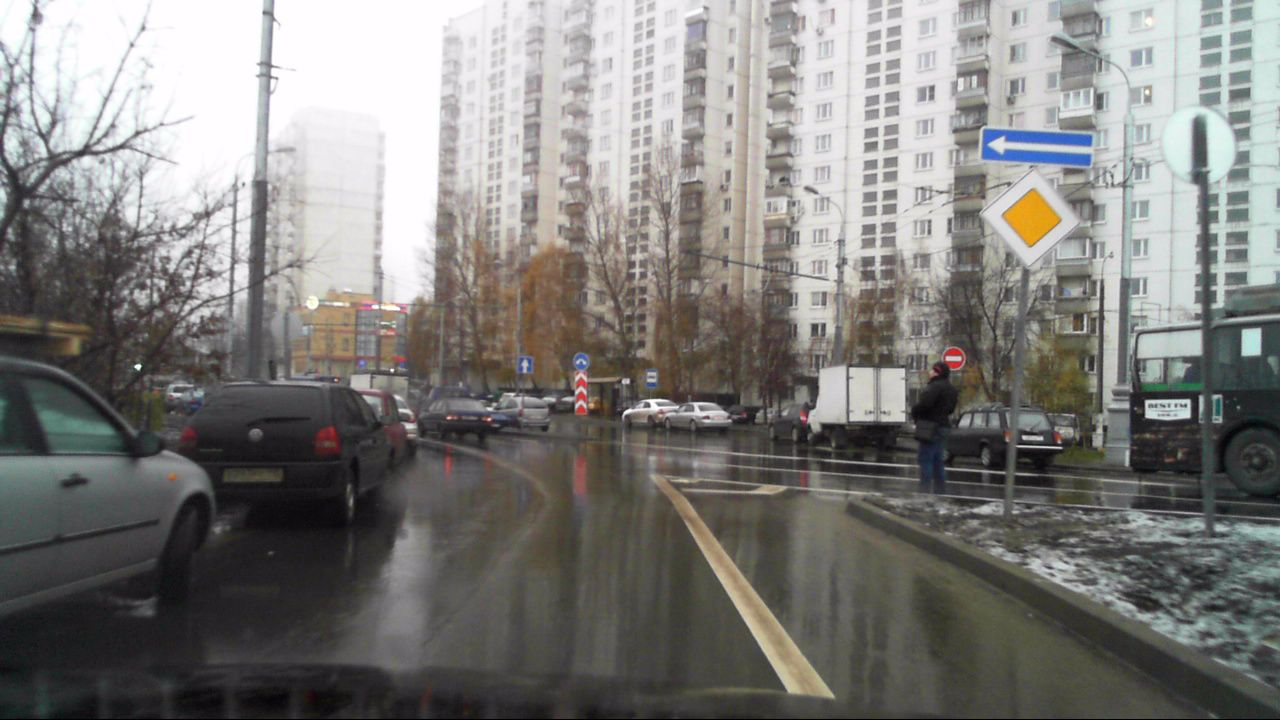One-Way Traffic: (980, 127, 1094, 166)
